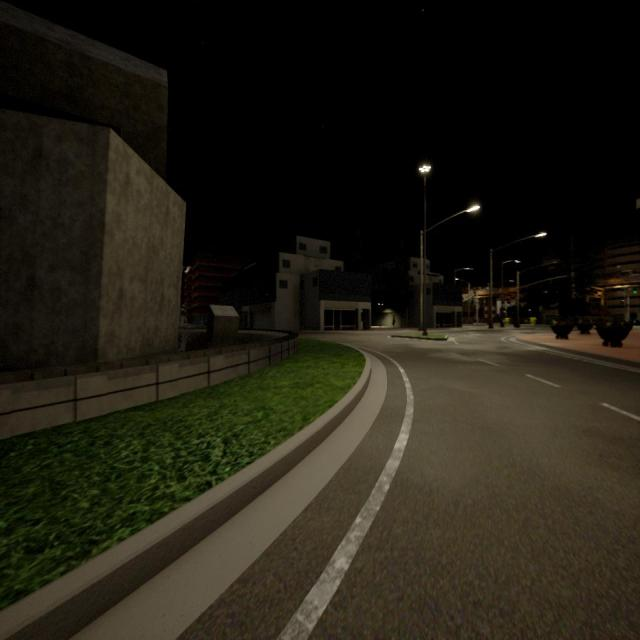Pedestrian: (393, 314, 395, 327)
traffic_light: (633, 287, 637, 294)
